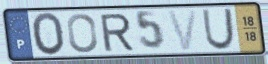5: (133, 9, 168, 53)
O: (30, 11, 67, 58), (66, 12, 100, 55)
R: (98, 12, 135, 53)
U: (201, 7, 236, 52)
V: (165, 8, 199, 53)
